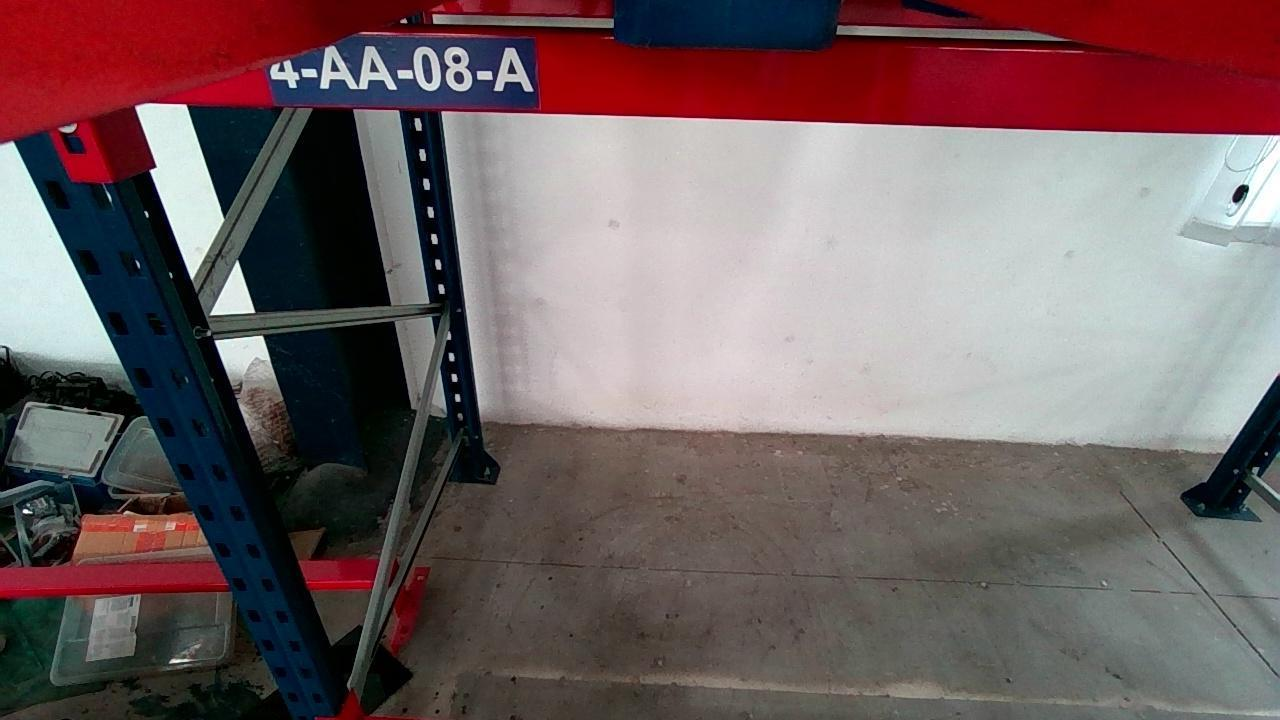h_rack: (132, 36, 1280, 134)
